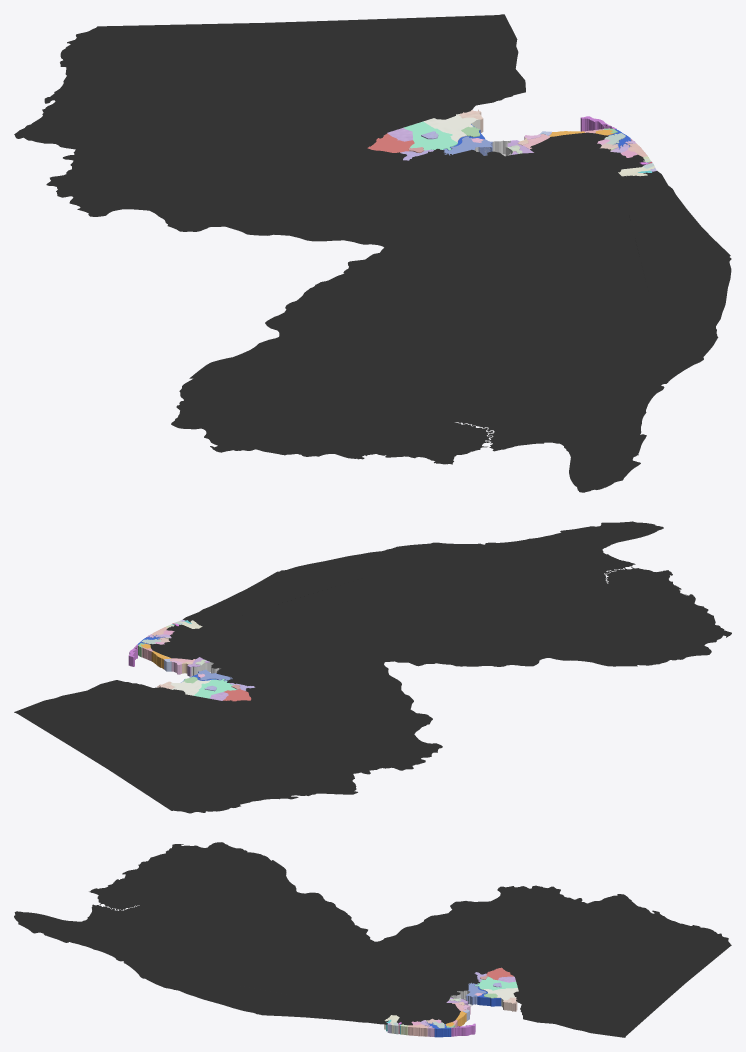
Rendered from Middlesex River.glb.
3 views of the same model, one above another, from view 1: azimuth 30°, elevation 25°; view 2: azimuth 150°, elevation 25°; view 3: azimuth 270°, elevation 25° (orthographic). The views are drawn at different scales.
Parts seen in each view (by area): view 1: Plane.007, Plane.014, Plane.013; view 2: Plane.007; view 3: Plane.007, Plane.014.
Boxes of the visible parts, left/top/right/bottom form: Plane.007: left=14, top=14, right=731, bottom=492; Plane.014: left=403, top=121, right=457, bottom=150; Plane.013: left=423, top=114, right=480, bottom=142; Plane.007: left=14, top=521, right=731, bottom=813; Plane.007: left=14, top=842, right=731, bottom=1037; Plane.014: left=475, top=977, right=517, bottom=990.
Bounding box in the file's own units: 19.07 × 0.4223 × 29.56.
Materials: 40 (25 with a texture image).
